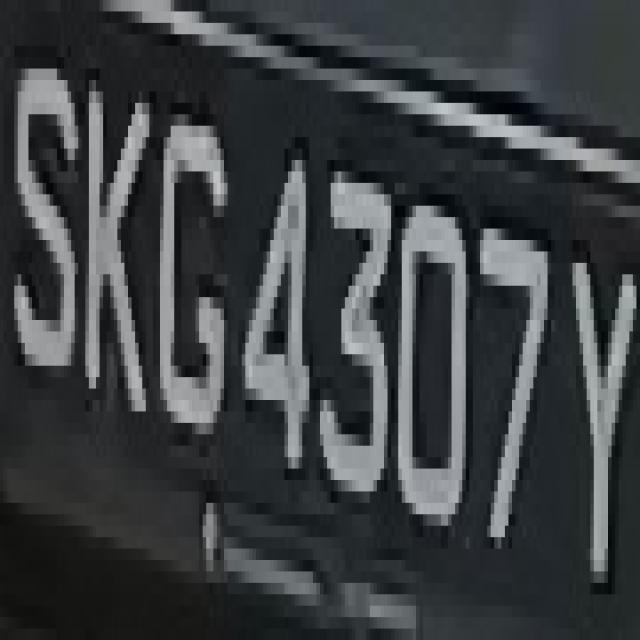0: (402, 160, 487, 583)
3: (324, 114, 398, 560)
4: (235, 114, 327, 492)
7: (469, 206, 555, 560)
G: (153, 92, 235, 457)
K: (82, 69, 156, 434)
S: (0, 12, 75, 434)
Y: (558, 194, 633, 583)
